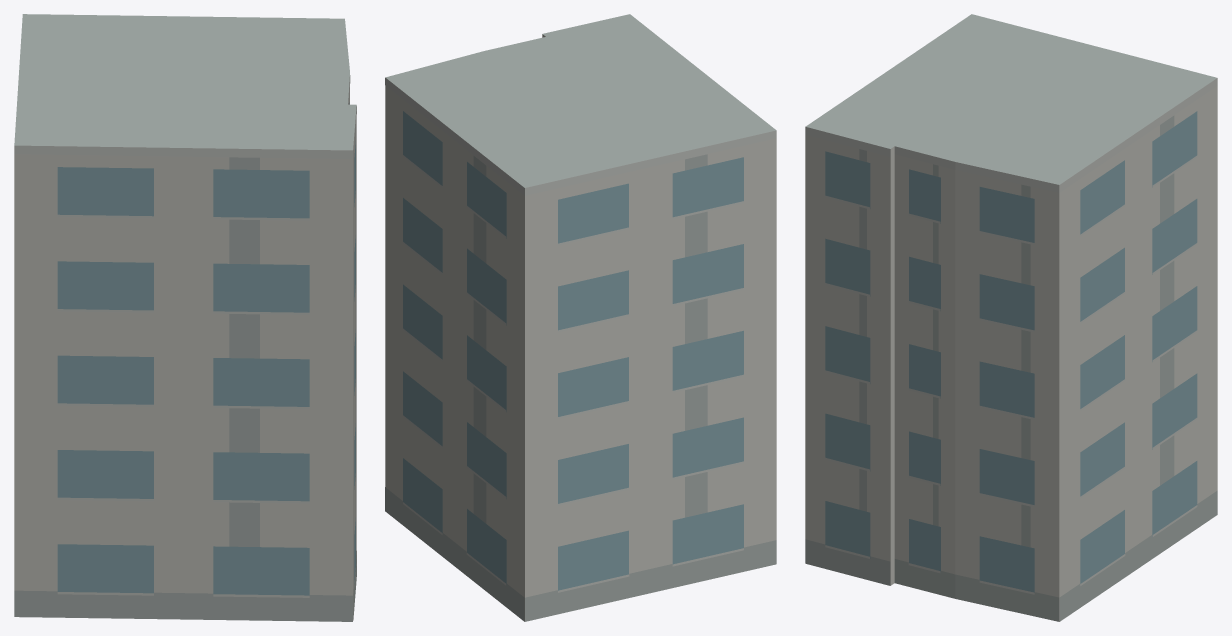
The model's file is survey-upis-33036146.glb.
3 renders of one model, left to right at view 1: azimuth 30°, elevation 25°; view 2: azimuth 150°, elevation 25°; view 3: azimuth 270°, elevation 25°, orthographic. The views are drawn at different scales.
Visible parts, largest first — view 1: survey-upis-33036146.tmp; view 2: survey-upis-33036146.tmp; view 3: survey-upis-33036146.tmp.
Boxes of the visible parts, x1=… form: survey-upis-33036146.tmp: x1=14, y1=14, x2=356, y2=621; survey-upis-33036146.tmp: x1=385, y1=14, x2=776, y2=621; survey-upis-33036146.tmp: x1=805, y1=14, x2=1217, y2=621.
Bounding box in the file's own units: 11.09 × 13.2 × 11.29.
